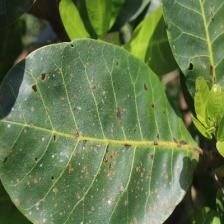red rust: (0, 49, 202, 223)
